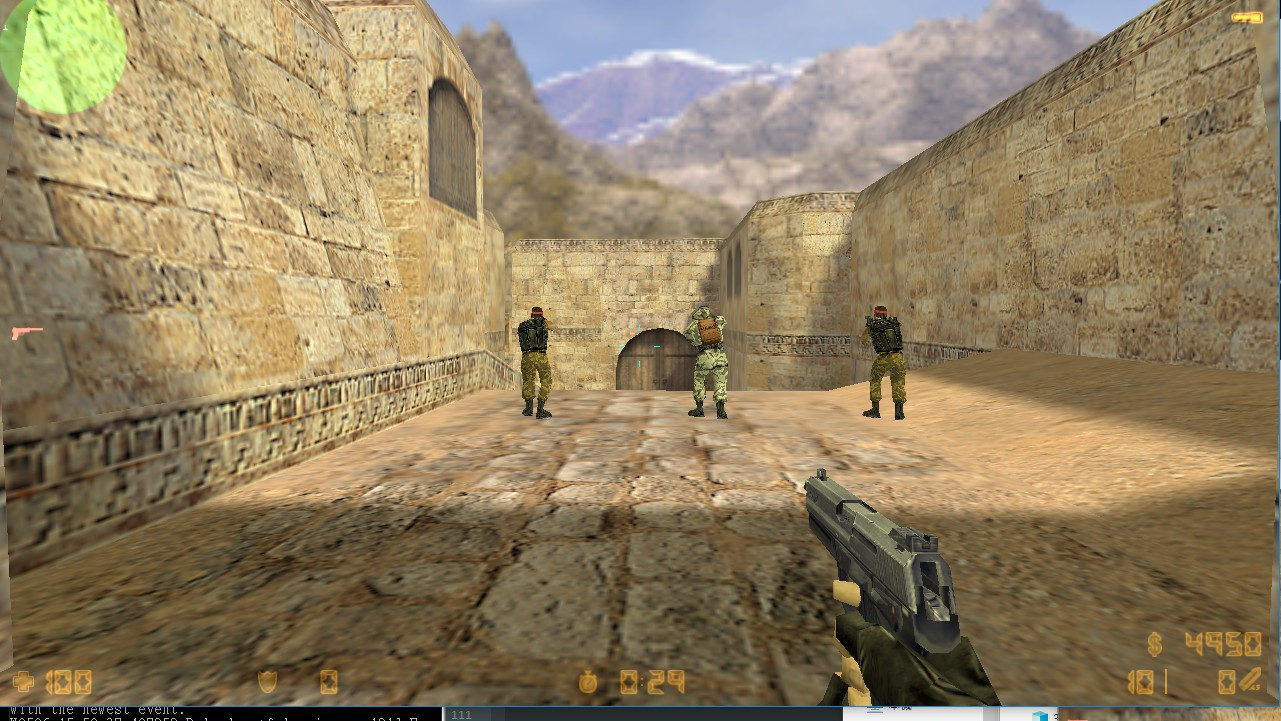person: (676, 294, 737, 429), (508, 303, 566, 427), (856, 296, 909, 424)
